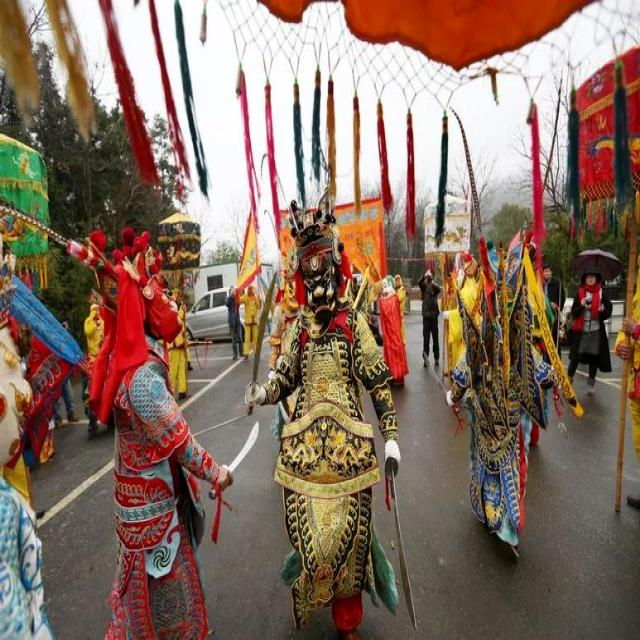Reeves-s Pheasant: (0, 200, 82, 255), (452, 110, 482, 238), (100, 251, 104, 268)
